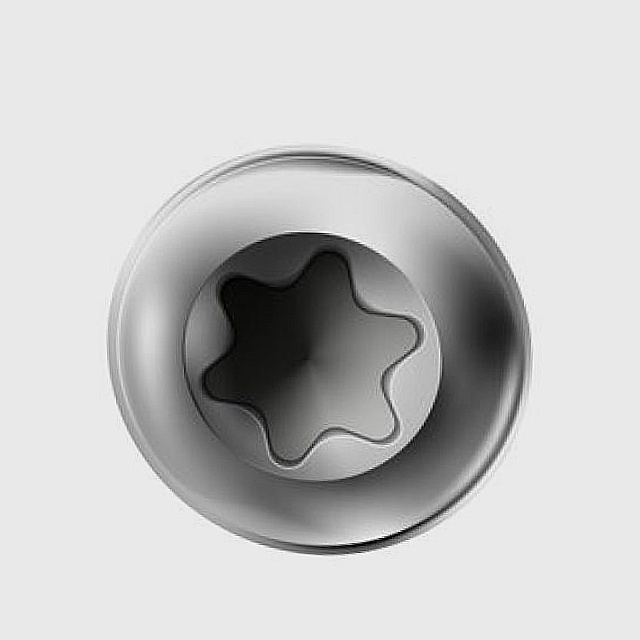torx: (99, 145, 545, 572)
